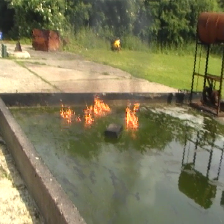fire_h: (84, 95, 111, 129), (59, 99, 80, 123), (126, 102, 139, 129)
